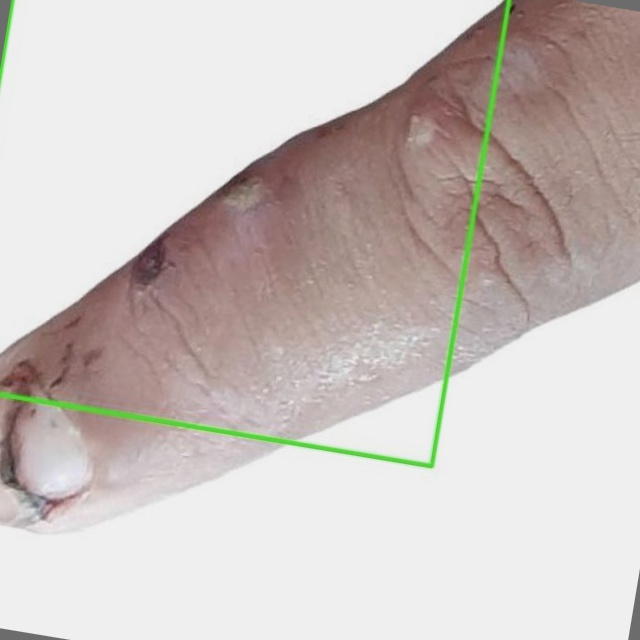Scabies: (0, 0, 510, 465)
